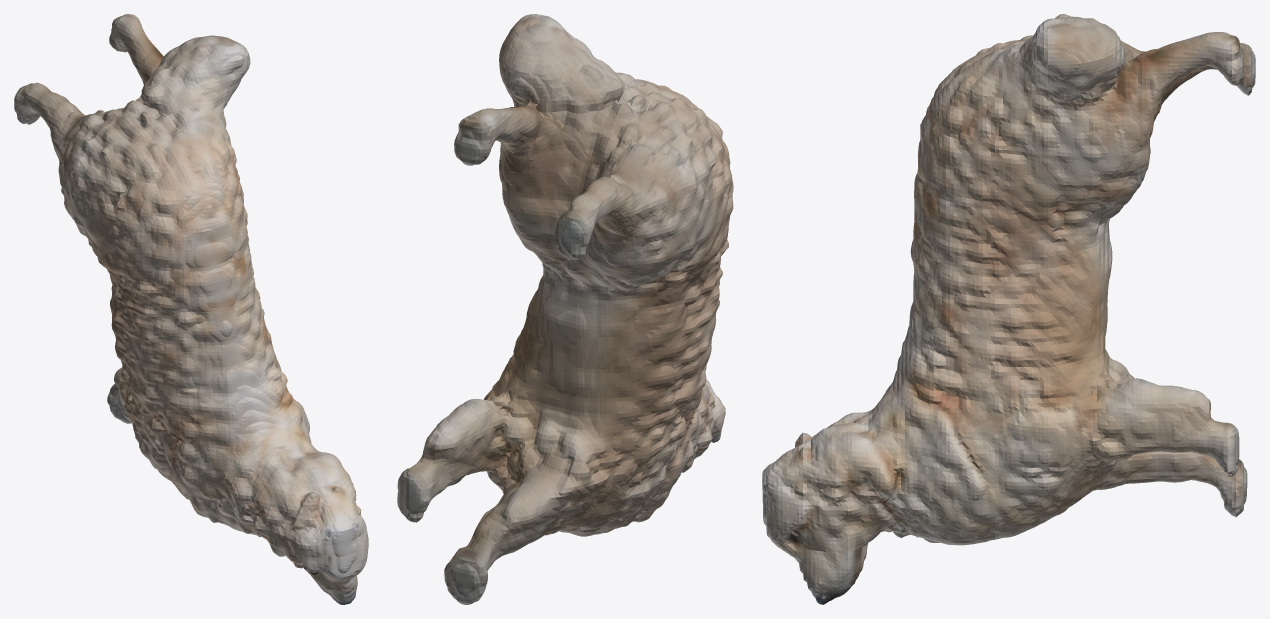
The picture shows the model from 3 angles, left to right: view 1: azimuth 30°, elevation 25°; view 2: azimuth 150°, elevation 25°; view 3: azimuth 270°, elevation 25°; orthographic projection. The views are drawn at different scales.
Visible parts, largest first — view 1: world; view 2: world; view 3: world.
Boxes of the visible parts, bbox=[...] form: world: bbox=[14, 14, 368, 604]; world: bbox=[397, 14, 733, 604]; world: bbox=[762, 14, 1255, 604].
Size of the model in its own units: 0.4209 by 1.05 by 0.8246.
